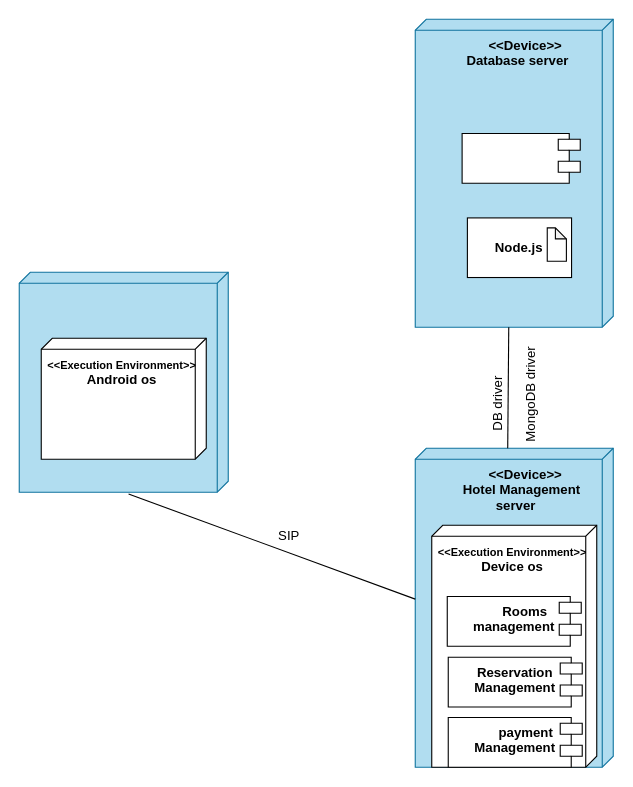
This 633x787 diagram has some shape labels left out. The shapes that lost their labels are listed below. From the top down, each one's centre as x and y in pixels, then its label:
pixel 520 157: Mongo DB
pixel 123 381: <<Device>> Customer Phone
